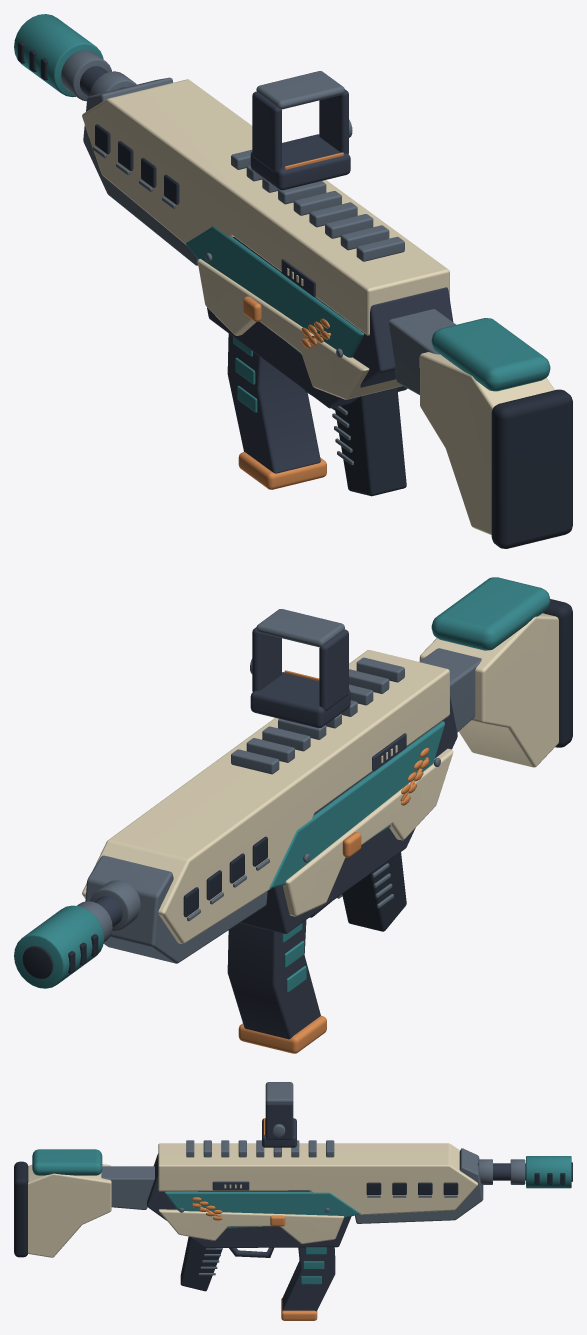
The model's file is aurora-rifle.glb.
The picture shows the model from 3 angles, top to bottom: view 1: azimuth 30°, elevation 25°; view 2: azimuth 150°, elevation 25°; view 3: azimuth 270°, elevation 25°; orthographic projection. The views are drawn at different scales.
Visible parts, largest first — view 1: weapon_Enamel ivory, weapon_Soft indigo grip, weapon_Machined slate, weapon_Lacquer turquoise, weapon_Blue graphite, magazine_Blue graphite, magazine_Copper orange, weapon_Copper orange, magazine_Lacquer turquoise; view 2: weapon_Enamel ivory, weapon_Machined slate, weapon_Lacquer turquoise, weapon_Blue graphite, weapon_Soft indigo grip, magazine_Blue graphite, magazine_Copper orange, weapon_Copper orange, magazine_Lacquer turquoise; view 3: weapon_Enamel ivory, weapon_Machined slate, weapon_Lacquer turquoise, weapon_Blue graphite, weapon_Soft indigo grip, magazine_Blue graphite, magazine_Lacquer turquoise, weapon_Copper orange, magazine_Copper orange.
Part boxes in pixels (<box>): weapon_Enamel ivory: <box>82,79,554,534</box>; weapon_Soft indigo grip: <box>17,41,572,548</box>; weapon_Machined slate: <box>61,50,456,465</box>; weapon_Lacquer turquoise: <box>14,14,550,391</box>; weapon_Blue graphite: <box>80,66,453,410</box>; magazine_Blue graphite: <box>227,333,320,473</box>; magazine_Copper orange: <box>238,452,326,489</box>; weapon_Copper orange: <box>243,152,343,348</box>; magazine_Lacquer turquoise: <box>233,337,257,412</box>; weapon_Enamel ivory: <box>82,613,558,943</box>; weapon_Machined slate: <box>77,609,481,963</box>; weapon_Lacquer turquoise: <box>14,577,550,988</box>; weapon_Blue graphite: <box>94,627,457,933</box>; weapon_Soft indigo grip: <box>22,599,572,978</box>; magazine_Blue graphite: <box>227,920,320,1039</box>; magazine_Copper orange: <box>238,1015,326,1053</box>; weapon_Copper orange: <box>284,670,429,857</box>; magazine_Lacquer turquoise: <box>282,923,306,992</box>; weapon_Enamel ivory: <box>28,1143,477,1257</box>; weapon_Machined slate: <box>101,1082,525,1275</box>; weapon_Lacquer turquoise: <box>32,1149,571,1228</box>; weapon_Blue graphite: <box>147,1101,525,1257</box>; weapon_Soft indigo grip: <box>14,1161,572,1291</box>; magazine_Blue graphite: <box>282,1247,335,1311</box>; magazine_Lacquer turquoise: <box>301,1247,326,1284</box>; weapon_Copper orange: <box>192,1118,285,1226</box>; magazine_Copper orange: <box>281,1298,317,1320</box>.
Bounding box in the file's own units: 0.119 × 0.4225 × 0.959.
